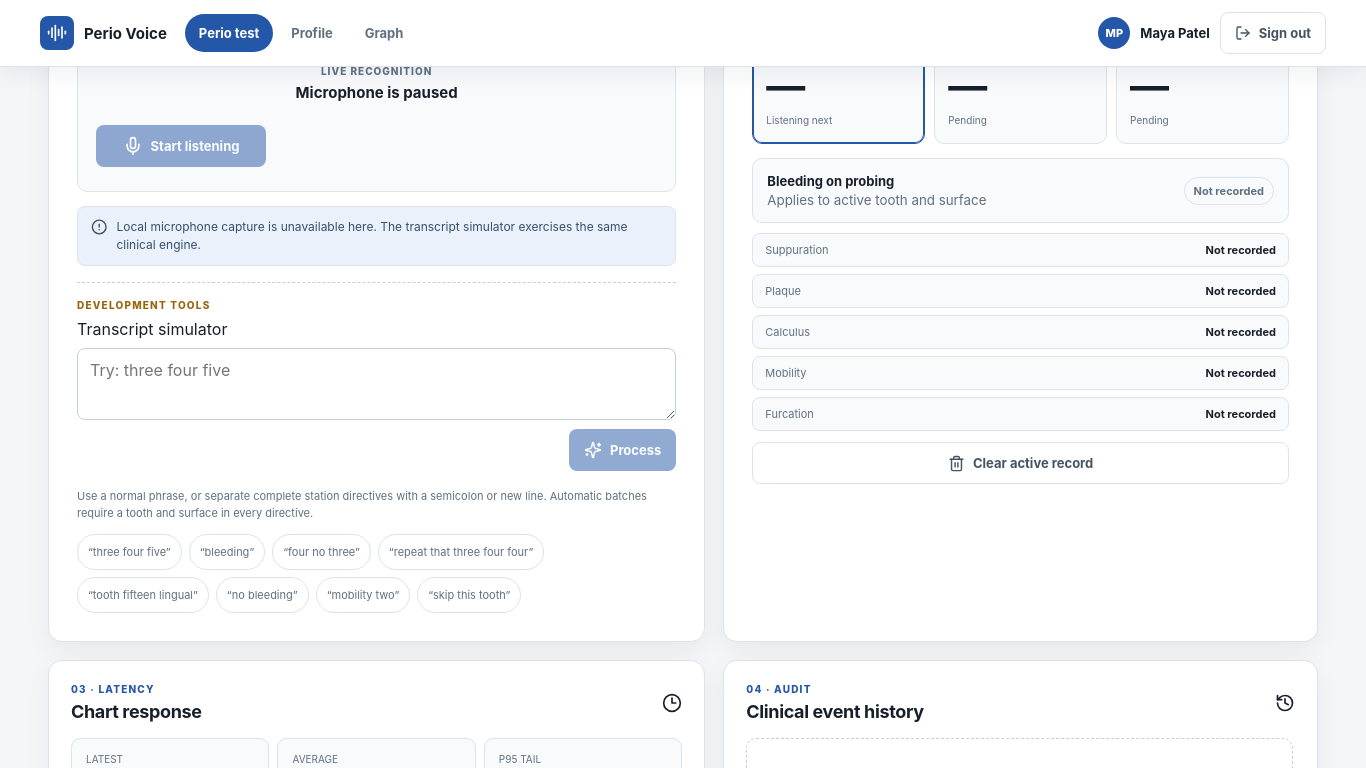
Test: full-mouth workflow controls › advances, steps back, and reports progress as sites are charted
This screenshot has width=1366, height=768.
(page scrolled)
Type "three four five" into the text box labelled "Transcript simulator" at (377, 384), box [77,348,676,420]
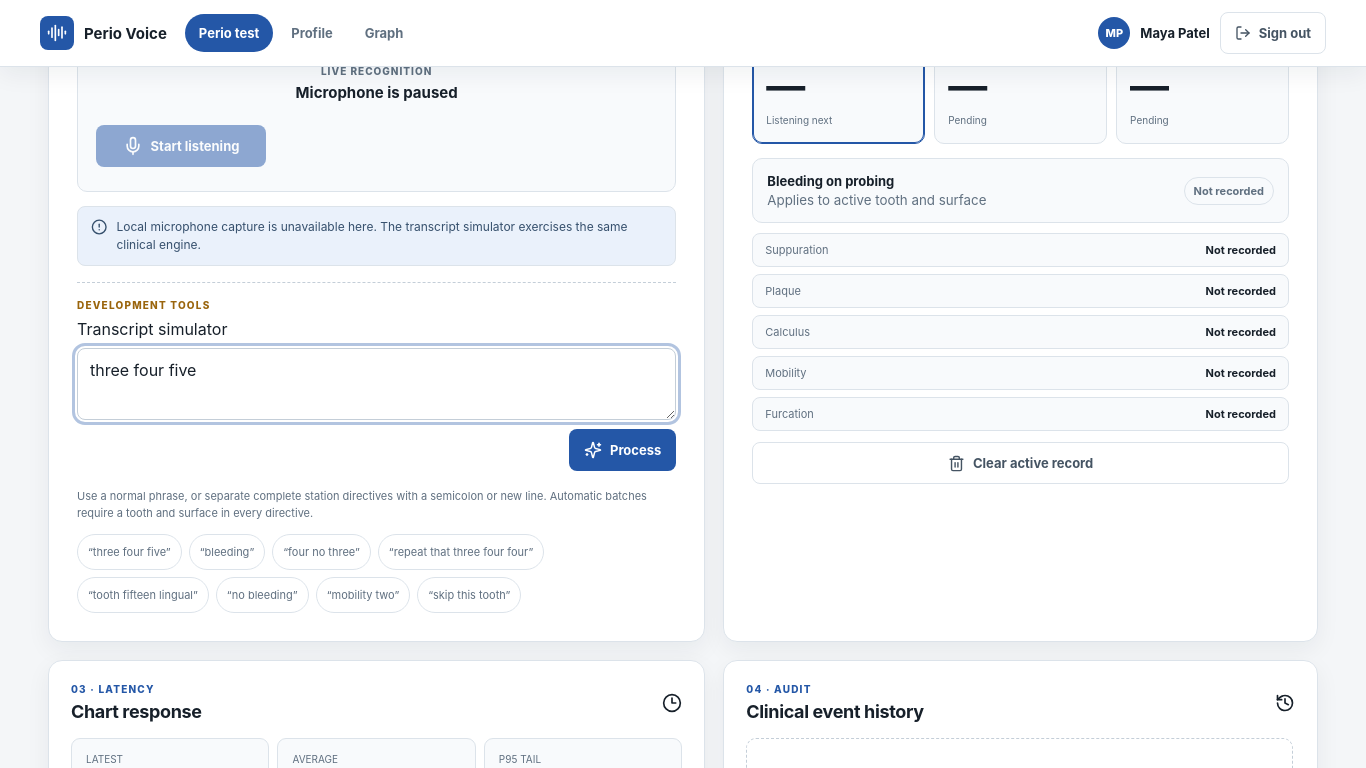
Click the button "Process" at (623, 450), box [569,430,676,472]
(page scrolled)
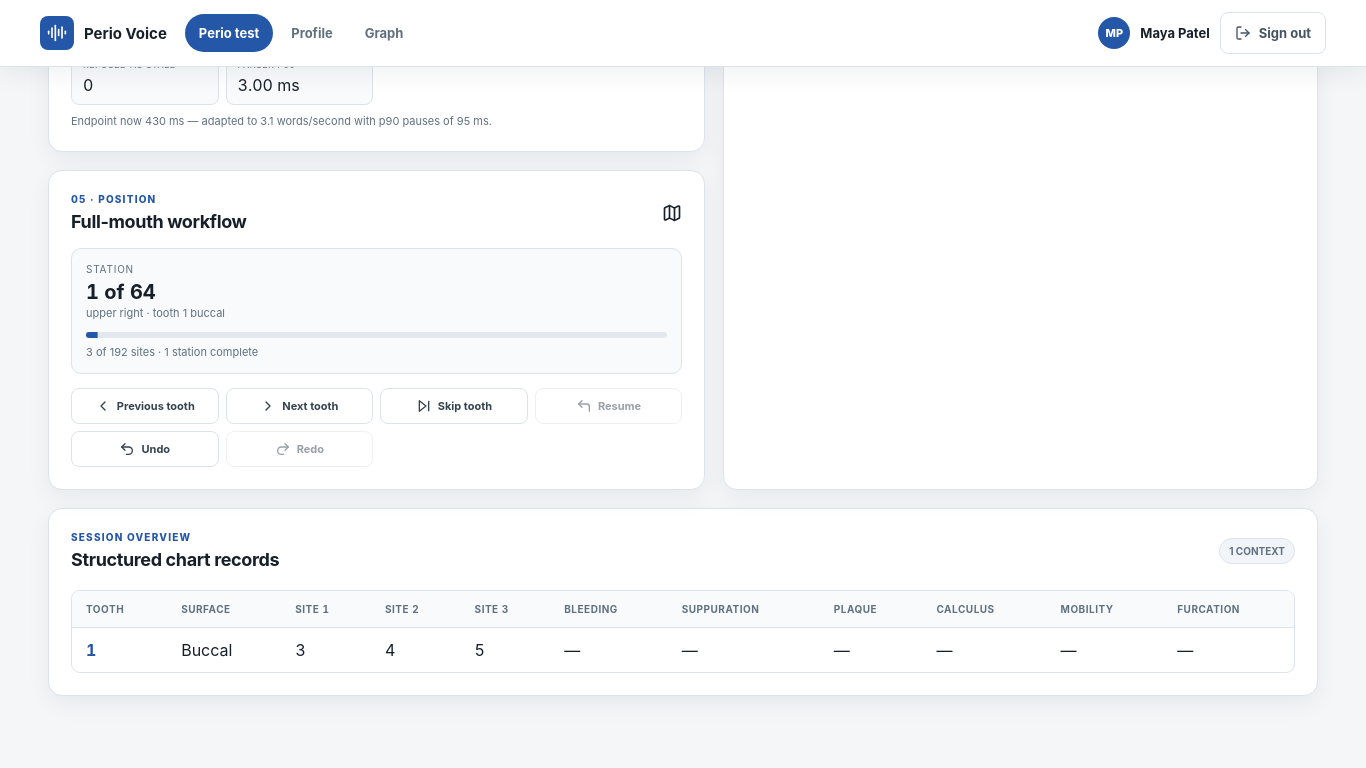
expect the progress indicator named "Full-mouth charting progress" has attribute aria-valuenow="3": met, box [86,332,667,338]
Click the button "Next tooth" at (299, 406), box [226,388,373,424]
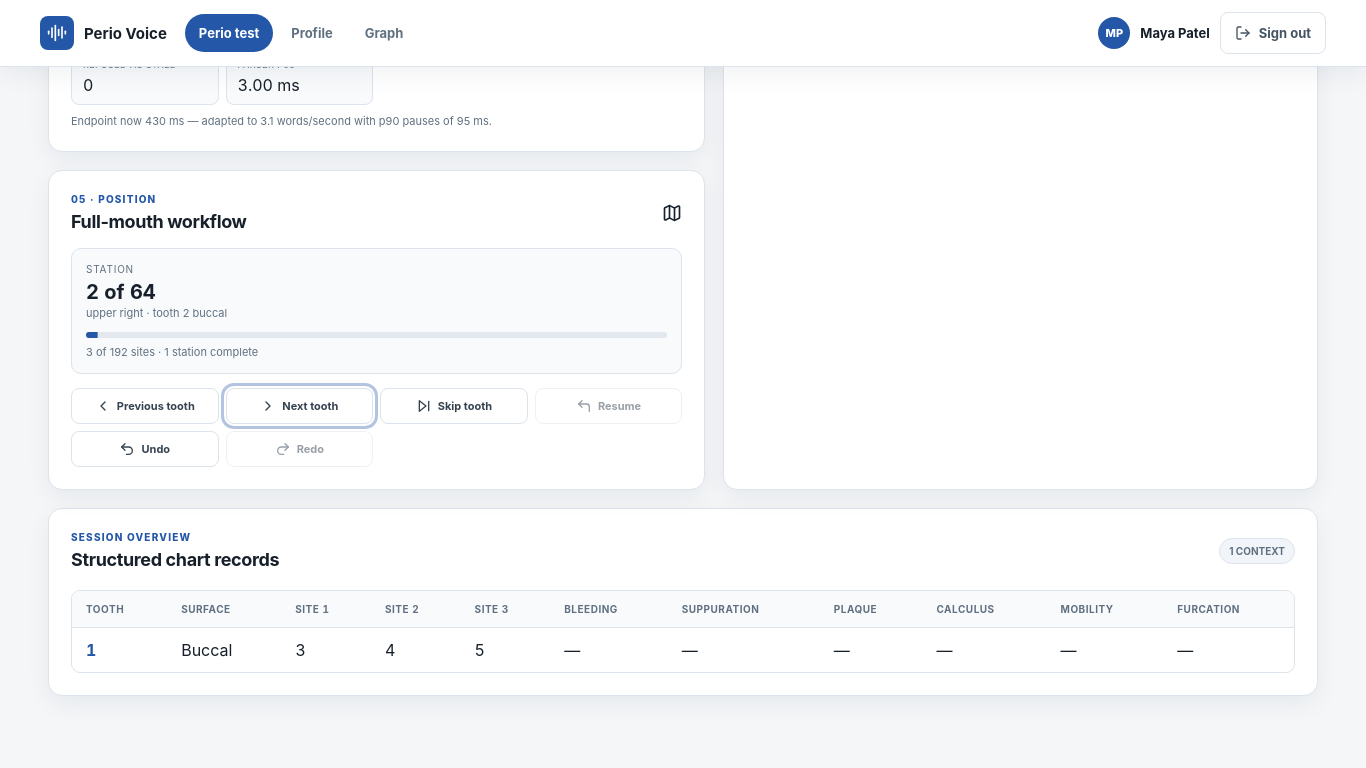
expect the text "upper right · tooth 2 buccal" is shown: met, box [86,306,227,320]
Click the button "Previous tooth" at (145, 406), box [71,388,219,424]
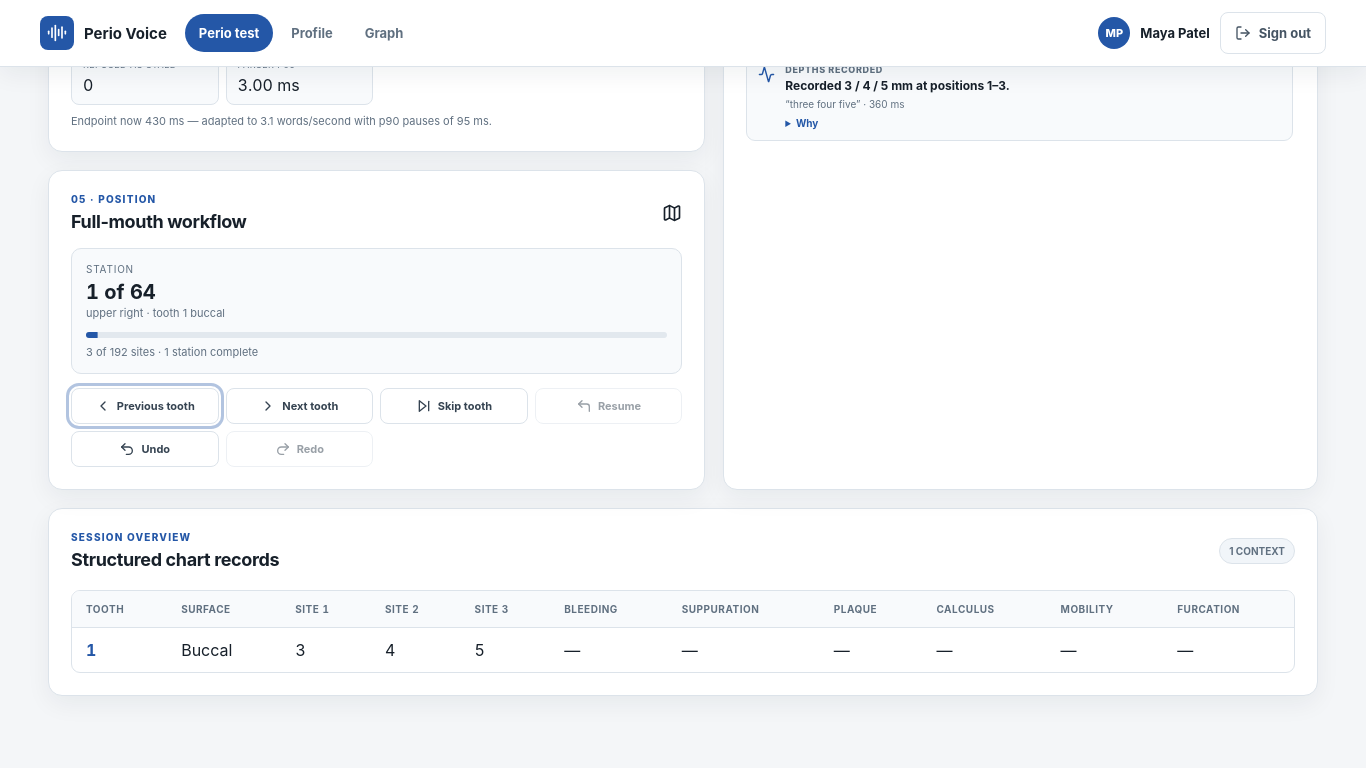
expect the text "upper right · tooth 1 buccal" is shown: met, box [86,306,225,320]
